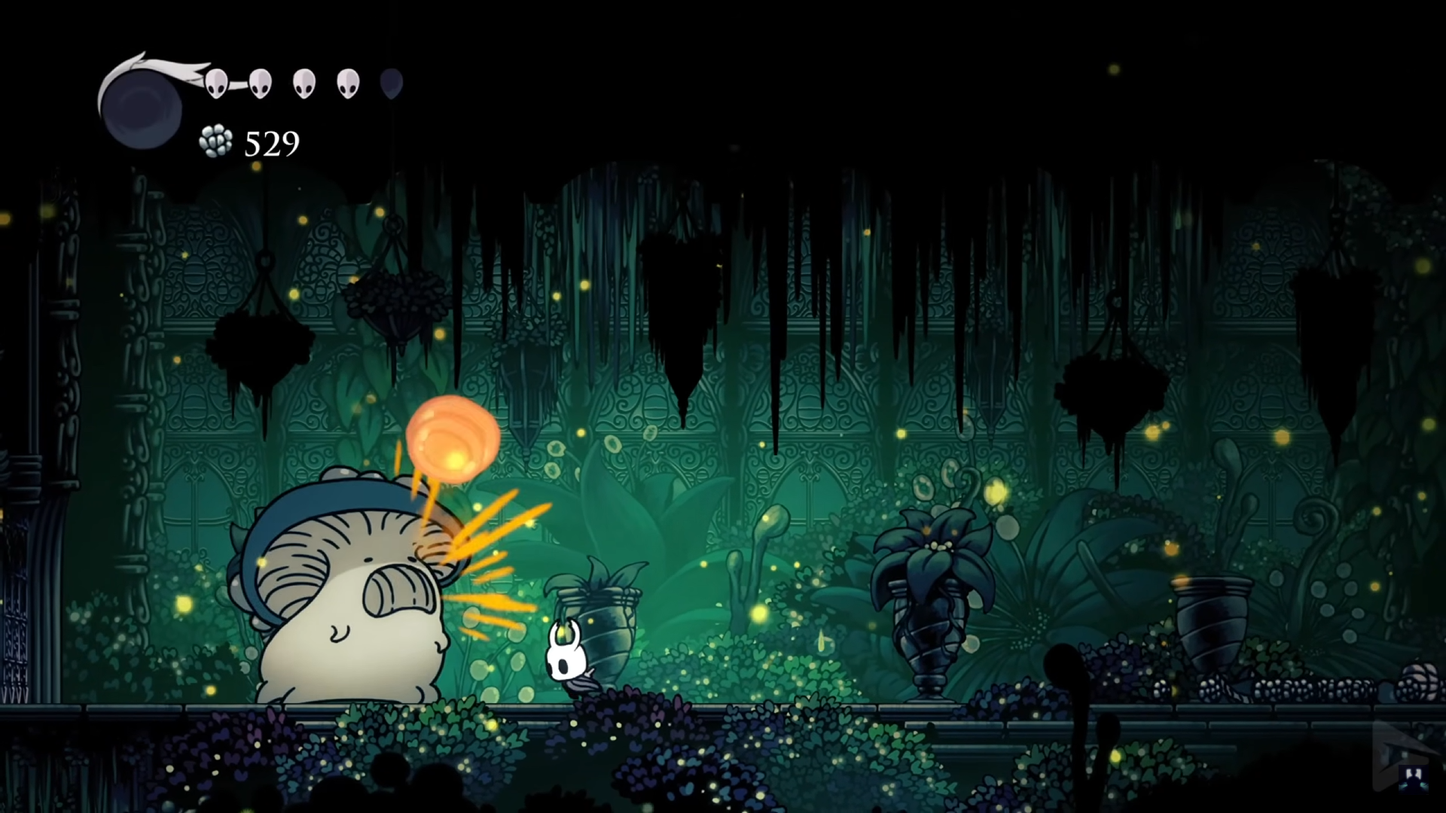HK: (542, 616, 596, 702)
